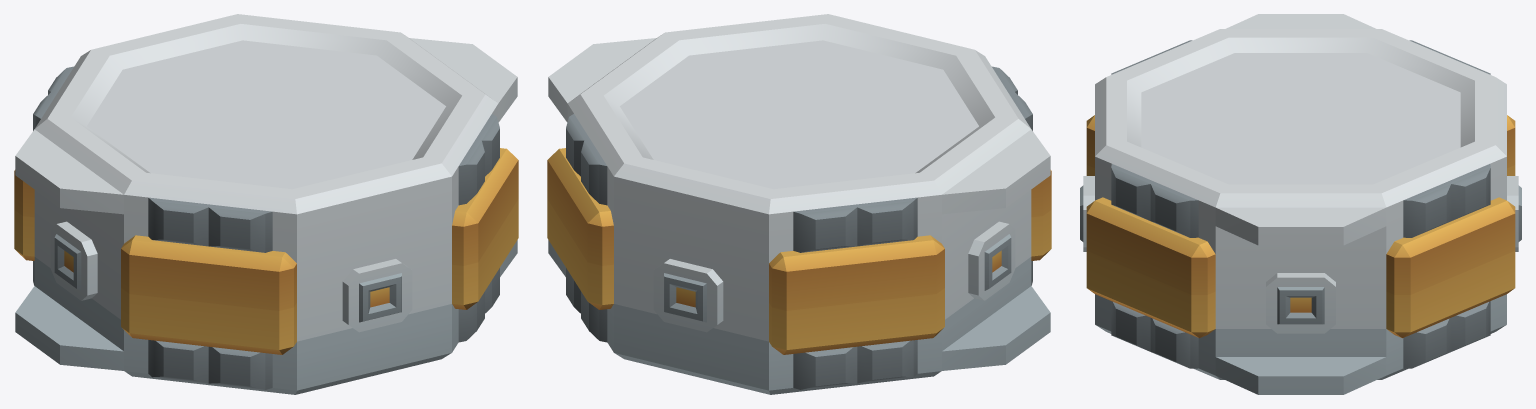
File: basemodule_d.glb
3 renders of one model, left to right at view 1: azimuth 30°, elevation 25°; view 2: azimuth 150°, elevation 25°; view 3: azimuth 270°, elevation 25°, orthographic. The views are drawn at different scales.
Visible parts, largest first — view 1: basemodule_D; view 2: basemodule_D; view 3: basemodule_D.
Boxes of the visible parts, x1,y1,x2,y2 form: basemodule_D: [14, 14, 518, 394]; basemodule_D: [547, 14, 1051, 394]; basemodule_D: [1080, 14, 1521, 394].
Size of the model in its own units: 7.33 by 3 by 6.43.
Materials: 1 (1 with a texture image).
